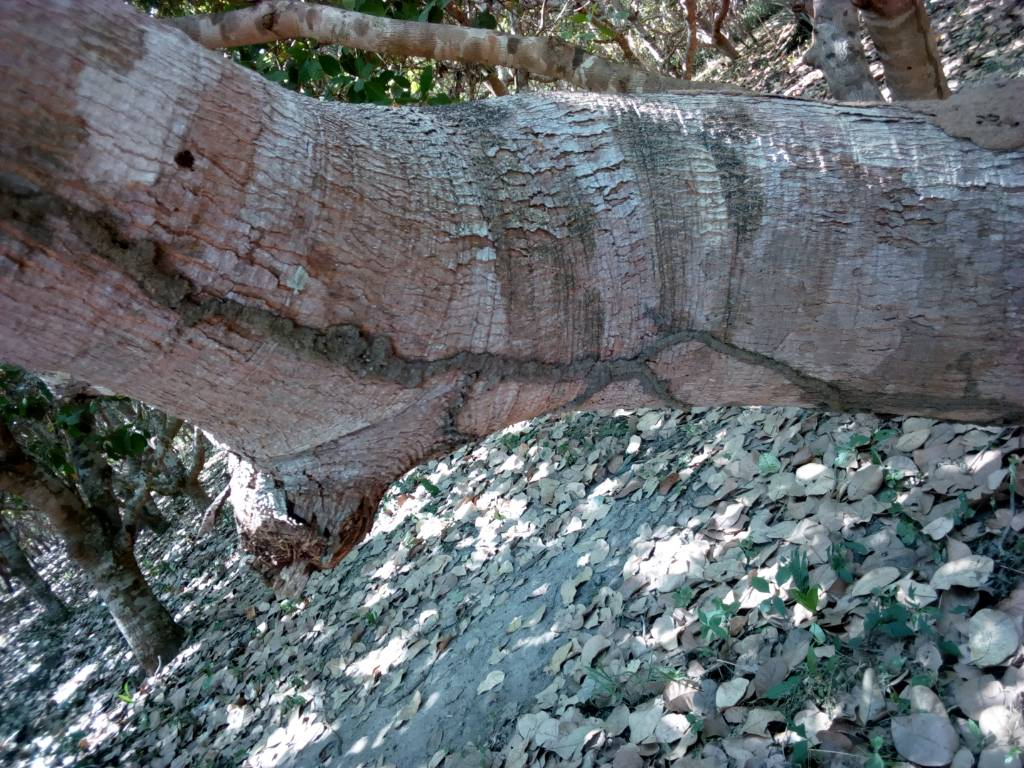Termites: (82, 216, 1021, 426), (927, 77, 1024, 162)
